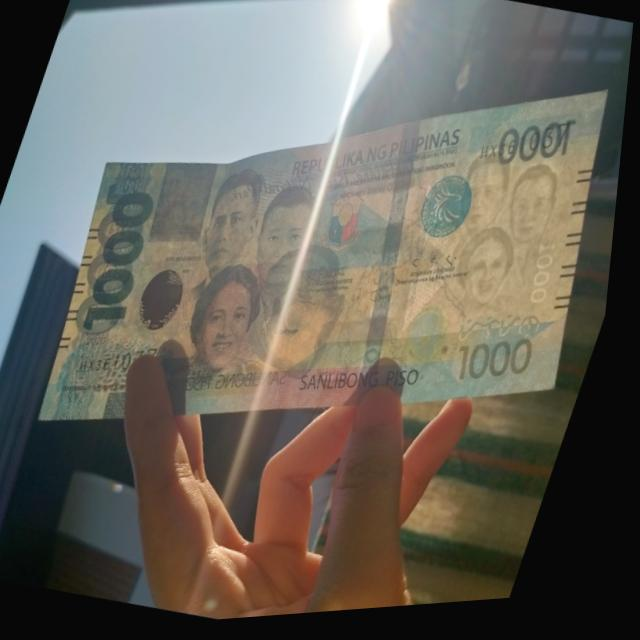concealed_value: (149, 165, 220, 245)
optically_variable_device: (129, 263, 203, 340)
security_thread: (361, 124, 423, 406)
see_through_mark: (458, 317, 550, 352)
serial_number: (78, 348, 168, 376)
value: (74, 183, 170, 343)
value_watermark: (524, 242, 570, 318)
watermark: (420, 144, 576, 338)
